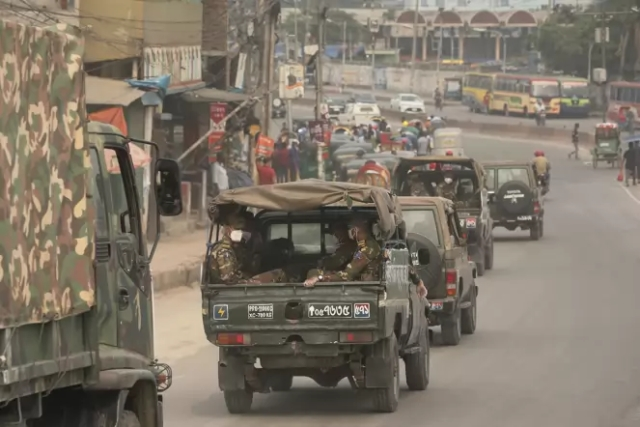army vehicle: (1, 22, 182, 426), (201, 179, 431, 414), (391, 156, 494, 275), (396, 197, 477, 346), (480, 163, 544, 240)
bus: (491, 74, 561, 115), (609, 81, 640, 126), (559, 76, 590, 118), (463, 72, 490, 113)
rickshaw: (593, 123, 622, 169), (356, 164, 390, 186)
taxi: (390, 93, 425, 115)
three wheelers (CNG): (434, 127, 465, 158)
